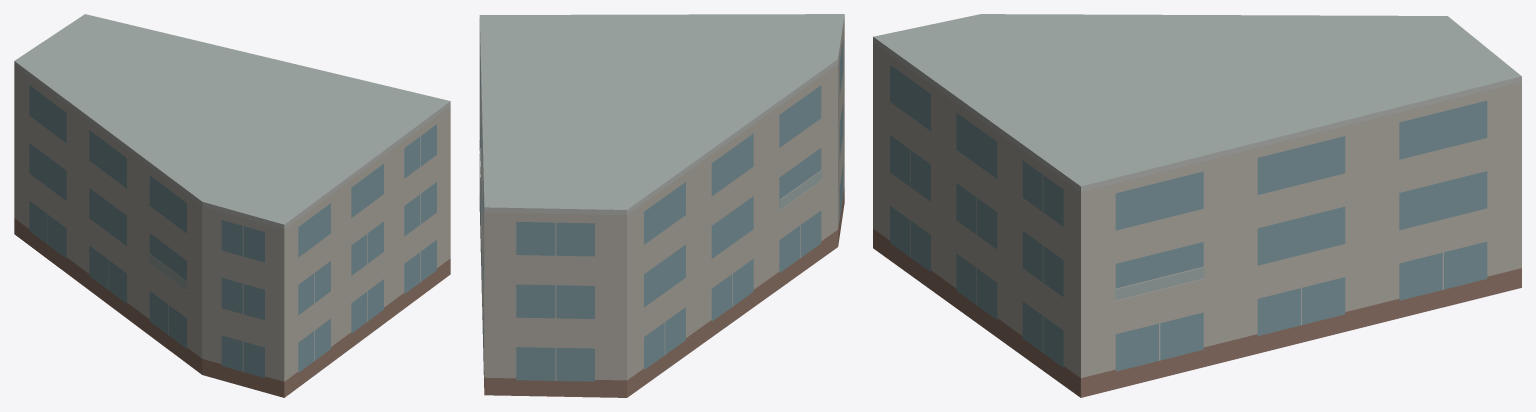
File: survey-upis-32658652.glb
The picture shows the model from 3 angles, left to right: view 1: azimuth 30°, elevation 25°; view 2: azimuth 150°, elevation 25°; view 3: azimuth 270°, elevation 25°; orthographic projection. The views are drawn at different scales.
Visible parts, largest first — view 1: survey-upis-32658652.tmp; view 2: survey-upis-32658652.tmp; view 3: survey-upis-32658652.tmp.
Part boxes in pixels (<box>): survey-upis-32658652.tmp: <box>14,14,450,397</box>; survey-upis-32658652.tmp: <box>479,14,844,397</box>; survey-upis-32658652.tmp: <box>873,14,1521,397</box>.
Size of the model in its own units: 16.03 by 9.15 by 25.45.
